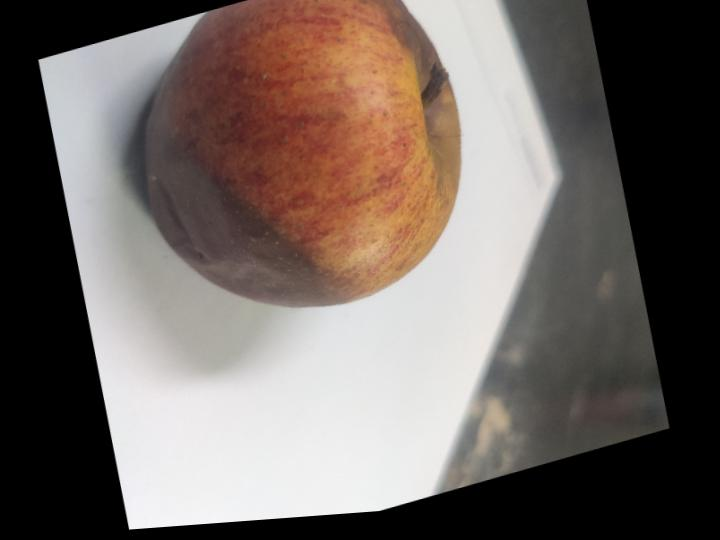apple: (146, 0, 461, 305)
rot_mold_decay: (146, 101, 338, 305), (389, 0, 460, 194)
